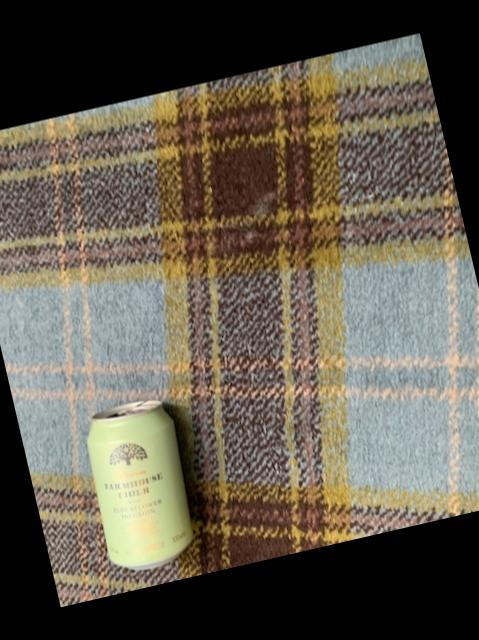metal: (86, 403, 190, 570)
